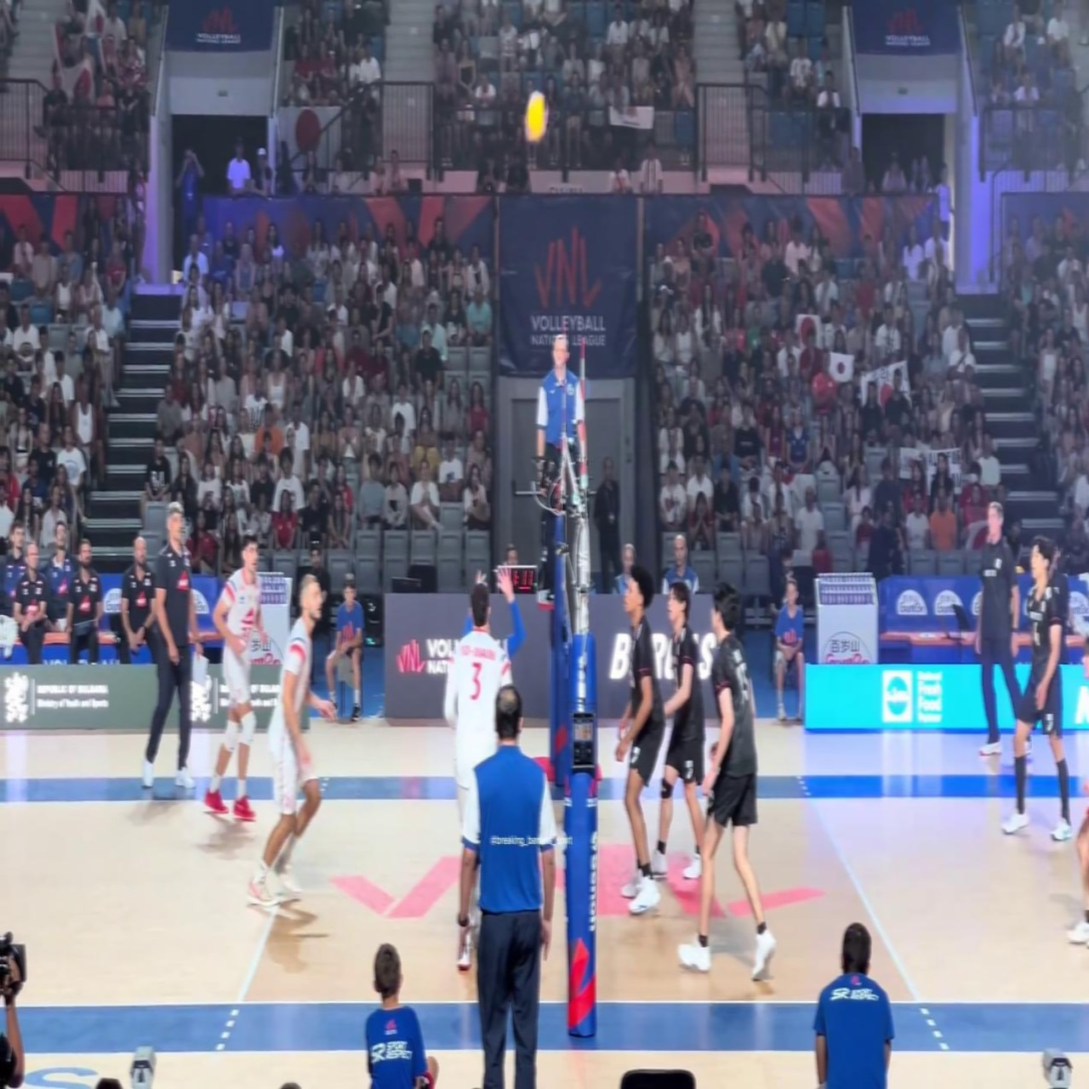ball: (522, 94, 546, 141)
